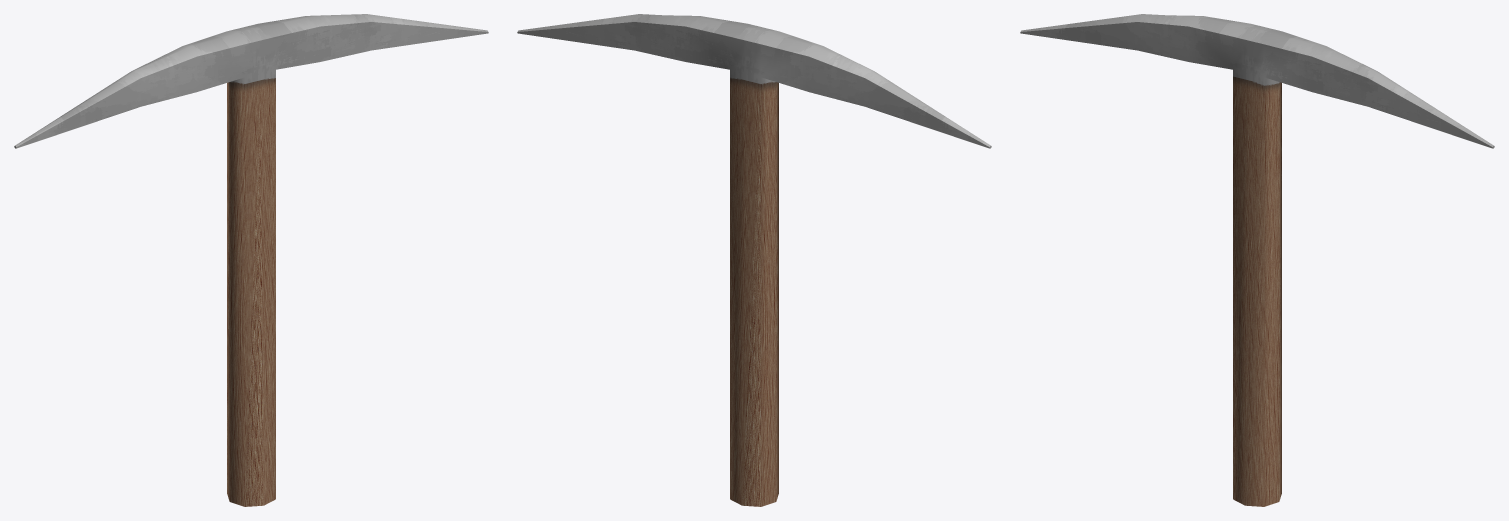
The model's file is Pickax.FBX.
3 views of the same model, side by side, from view 1: azimuth 30°, elevation 25°; view 2: azimuth 150°, elevation 25°; view 3: azimuth 330°, elevation 25° (orthographic).
Parts seen in each view (by area): view 1: Pickax; view 2: Pickax; view 3: Pickax.
Boxes of the visible parts, <box> form: Pickax: <box>14,14,488,506</box>; Pickax: <box>517,14,991,506</box>; Pickax: <box>1020,14,1494,506</box>.
Size of the model in its own units: 45.87 by 43.71 by 4.15.
